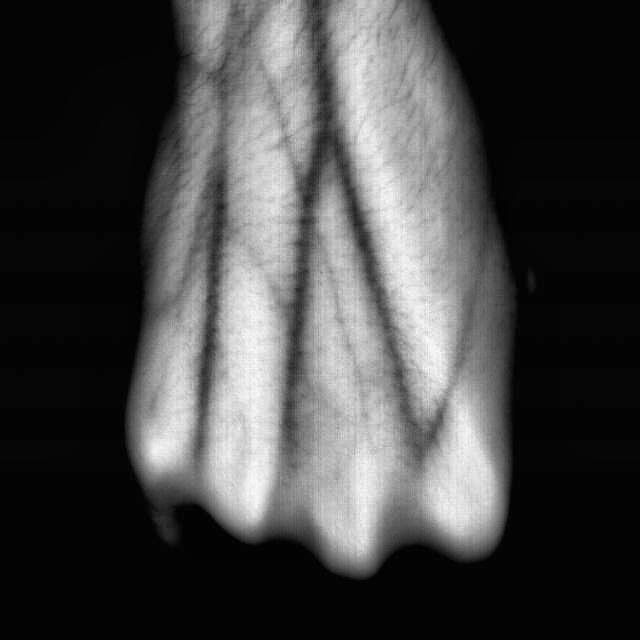Vein: (279, 37, 414, 435)
